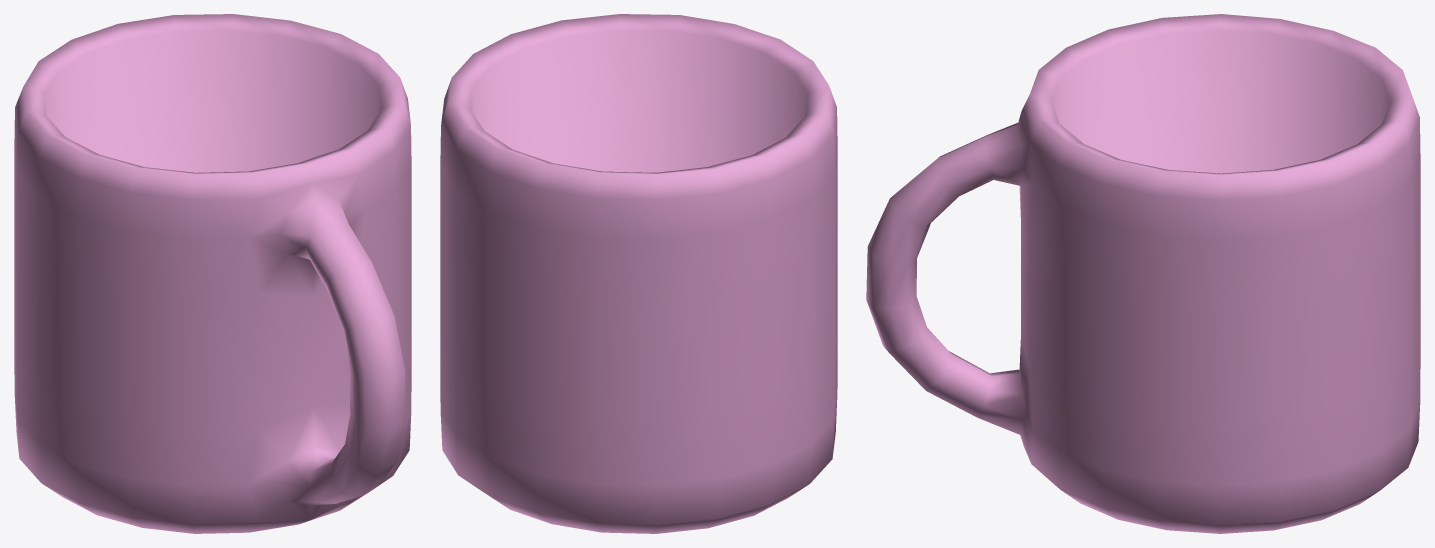
The model's file is Mug.fbx.
3 views of the same model, side by side, from view 1: azimuth 30°, elevation 25°; view 2: azimuth 150°, elevation 25°; view 3: azimuth 270°, elevation 25° (orthographic).
Parts seen in each view (by area): view 1: Cylinder002; view 2: Cylinder002; view 3: Cylinder002.
Boxes of the visible parts, x1=… form: Cylinder002: x1=14, y1=14, x2=411, y2=533; Cylinder002: x1=440, y1=14, x2=837, y2=533; Cylinder002: x1=866, y1=14, x2=1420, y2=533.
Bounding box in the file's own units: 97.89 × 99.16 × 136.
